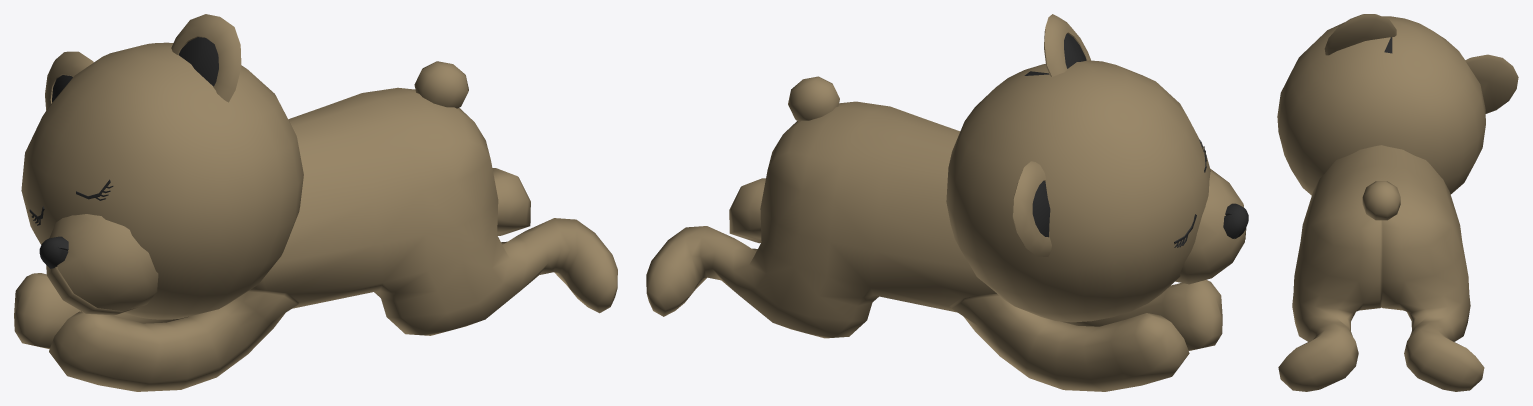
The model's file is BaiWeiBear01.FBX.
3 views of the same model, side by side, from view 1: azimuth 30°, elevation 25°; view 2: azimuth 150°, elevation 25°; view 3: azimuth 270°, elevation 25° (orthographic). The views are drawn at different scales.
Visible parts, largest first — view 1: BaiWeiBear01; view 2: BaiWeiBear01; view 3: BaiWeiBear01.
Part boxes in pixels (left/top/right/bottom): BaiWeiBear01: left=14, top=14, right=617, bottom=391; BaiWeiBear01: left=646, top=14, right=1248, bottom=391; BaiWeiBear01: left=1277, top=14, right=1518, bottom=391.
Size of the model in its own units: 57 by 29.24 by 34.07.
